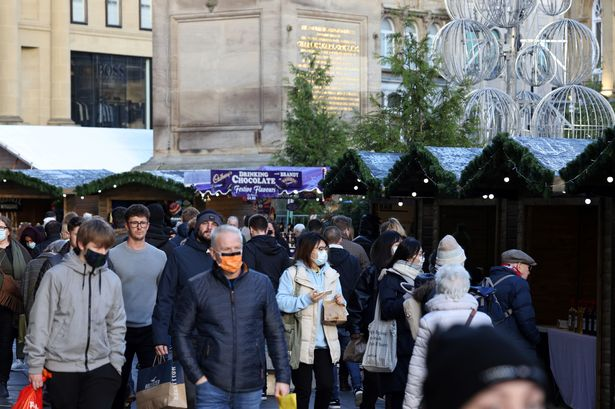person: (178, 232, 282, 402), (43, 225, 123, 404), (288, 233, 336, 399), (113, 203, 166, 348)
